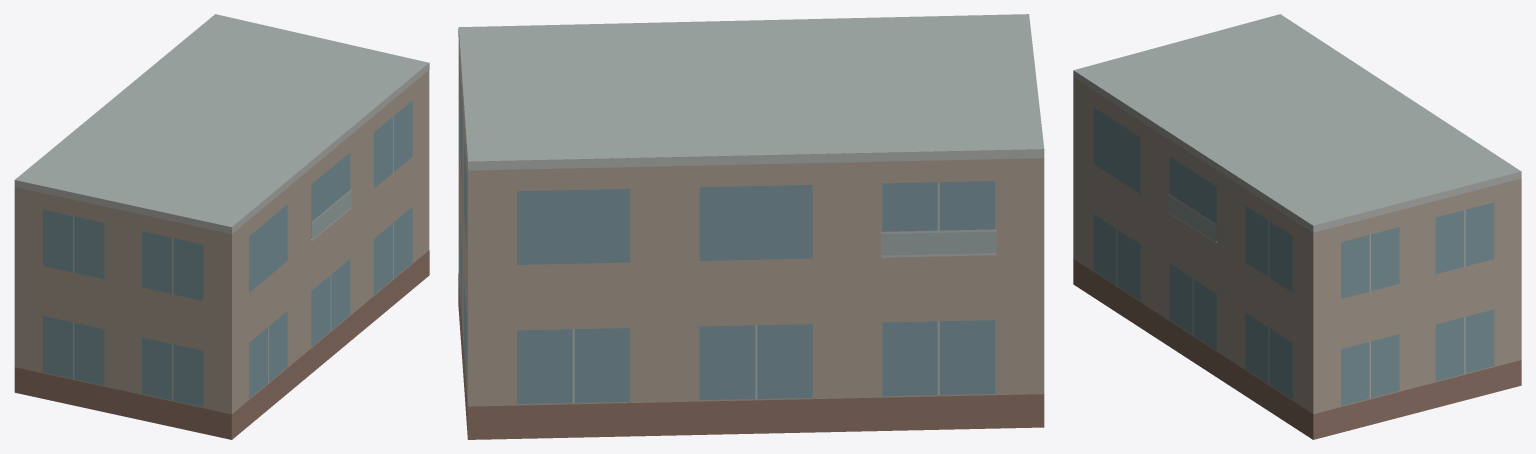
File: survey-upis-32619351.glb
The picture shows the model from 3 angles, left to right: view 1: azimuth 30°, elevation 25°; view 2: azimuth 150°, elevation 25°; view 3: azimuth 270°, elevation 25°; orthographic projection. The views are drawn at different scales.
Parts seen in each view (by area): view 1: survey-upis-32619351.tmp; view 2: survey-upis-32619351.tmp; view 3: survey-upis-32619351.tmp.
Part boxes in pixels (left/top/right/bottom): survey-upis-32619351.tmp: left=14, top=14, right=429, bottom=439; survey-upis-32619351.tmp: left=458, top=14, right=1044, bottom=439; survey-upis-32619351.tmp: left=1073, top=14, right=1521, bottom=439.
Size of the model in its own units: 15.92 by 7.5 by 14.24.
